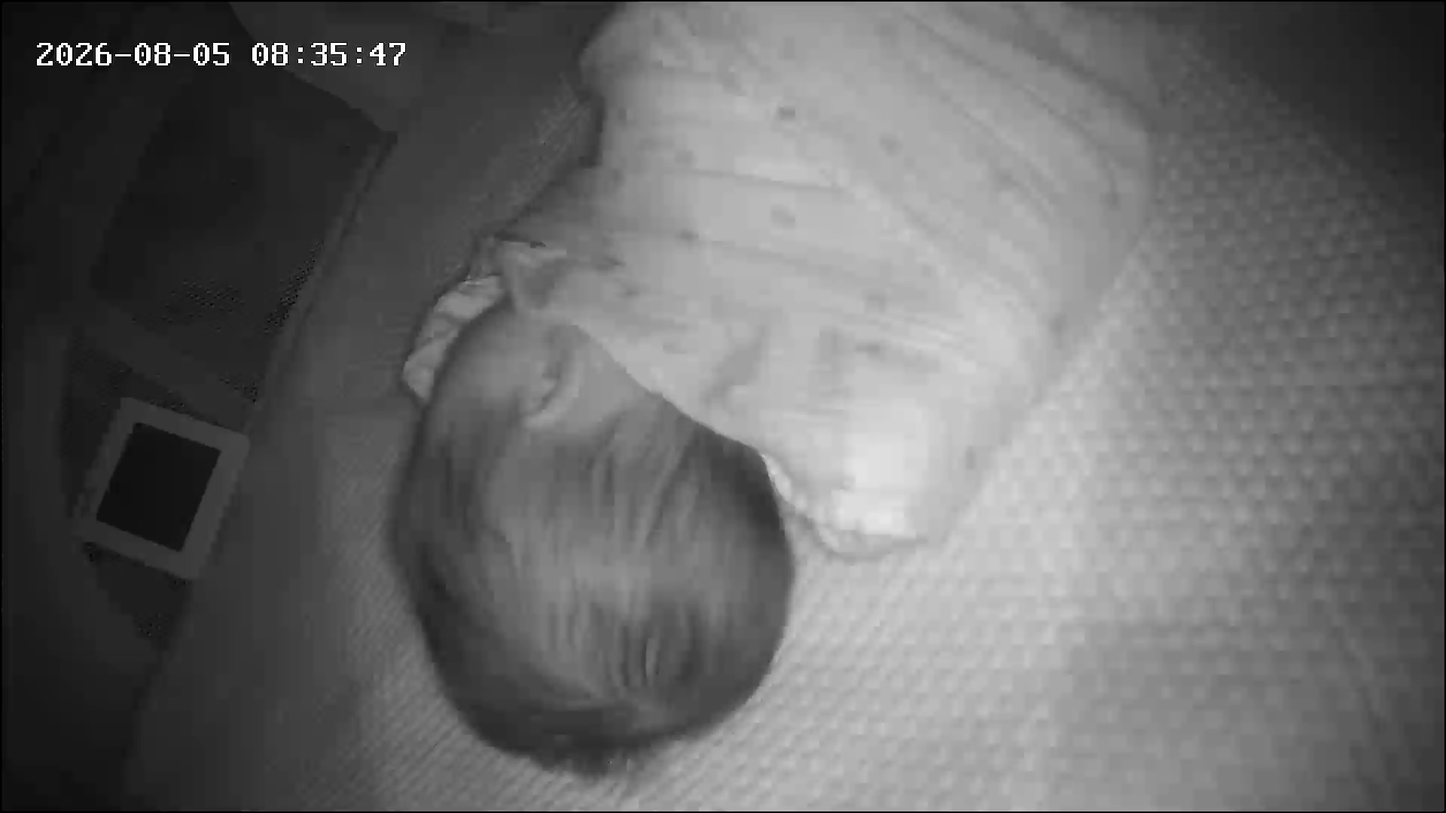baby: (0, 6, 823, 803)
baby_face: (386, 261, 803, 780)
